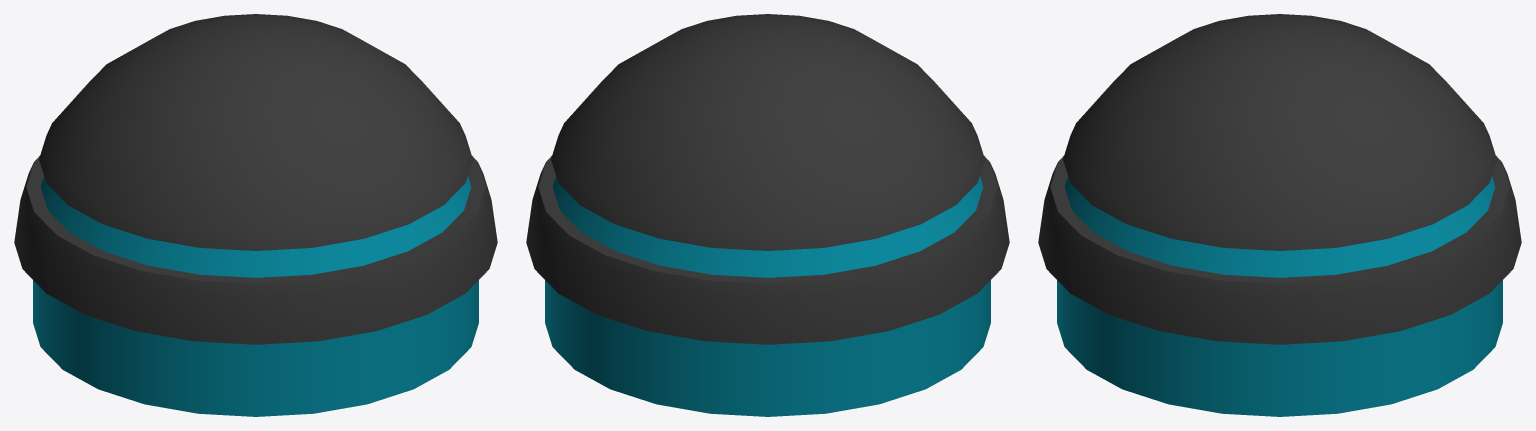
Rendered from BatteryHalf.fbx.
3 views of the same model, side by side, from view 1: azimuth 30°, elevation 25°; view 2: azimuth 150°, elevation 25°; view 3: azimuth 270°, elevation 25° (orthographic).
Parts seen in each view (by area): view 1: Sphere001; view 2: Sphere001; view 3: Sphere001.
Boxes of the visible parts, x1=… form: Sphere001: x1=14, y1=14, x2=497, y2=416; Sphere001: x1=526, y1=14, x2=1009, y2=416; Sphere001: x1=1038, y1=14, x2=1521, y2=416.
Bounding box in the file's own units: 24.79 × 16.22 × 24.79.
